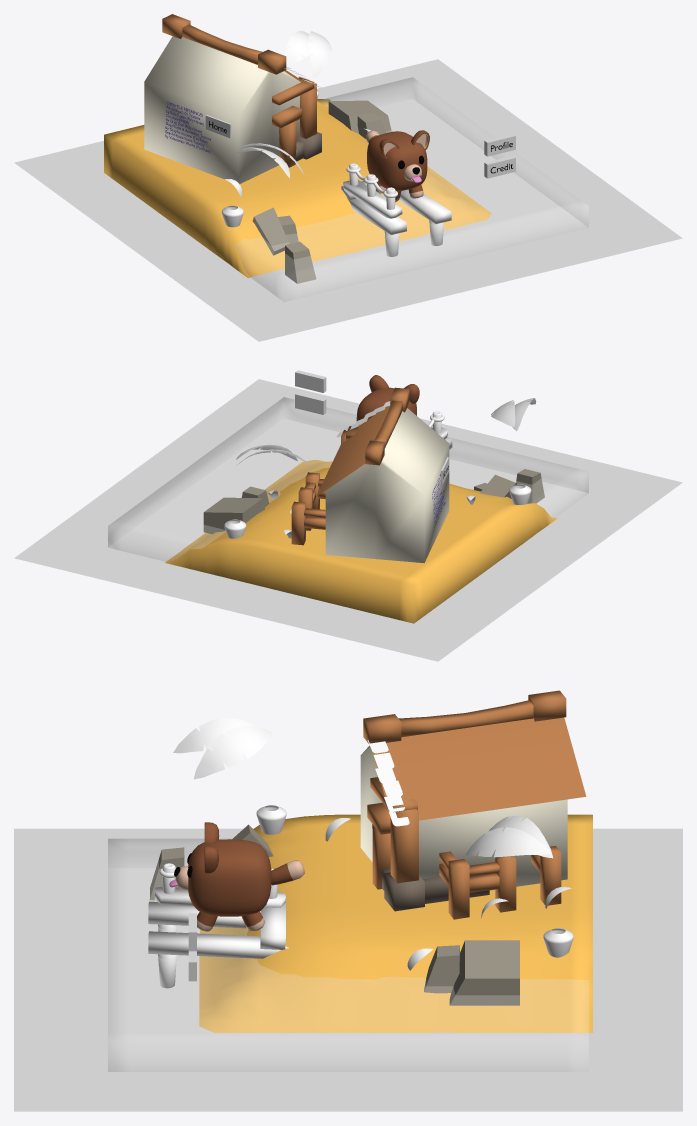
File: sea.glb
3 renders of one model, top to bottom at view 1: azimuth 30°, elevation 25°; view 2: azimuth 150°, elevation 25°; view 3: azimuth 270°, elevation 25°, orthographic. The views are drawn at different scales.
Visible parts, largest first — view 1: Plane.014, Water, sand, Cube, Cube.025, Cube.008, Cube.002, Cube.011, Cube.006, Cube.014, Cube.013, Plane.007 (+8 smaller); view 2: Plane.014, sand, Water, Cube, Cube.001, Cube.009, Cube.011, Cube.025, Cube.014, Cube.006, Cube.019, Cube.017 (+1 smaller); view 3: Plane.014, Water, sand, Cube.001, Cube, Cube.025, Cube.008, Cube.009, Cube.011, Cube.002, Cube.006, Plane.009 (+12 smaller).
Boxes of the visible parts, x1,y1,x2,y2 form: Plane.014: [14, 59, 682, 341]; Water: [235, 77, 588, 301]; sand: [104, 99, 491, 278]; Cube: [144, 36, 300, 184]; Cube.025: [367, 130, 429, 190]; Cube.008: [343, 180, 451, 234]; Cube.002: [272, 77, 316, 167]; Cube.011: [328, 100, 391, 133]; Cube.006: [182, 24, 262, 64]; Cube.014: [285, 241, 316, 283]; Cube.013: [252, 207, 289, 255]; Plane.007: [308, 31, 332, 78]; Plane.014: [14, 379, 682, 661]; sand: [165, 460, 557, 623]; Water: [108, 397, 588, 561]; Cube: [325, 408, 449, 563]; Cube.001: [316, 406, 389, 496]; Cube.009: [291, 472, 325, 545]; Cube.011: [203, 497, 264, 534]; Cube.025: [356, 375, 419, 420]; Cube.014: [516, 469, 544, 503]; Cube.006: [374, 400, 402, 448]; Cube.019: [295, 370, 326, 392]; Cube.017: [295, 392, 326, 414]; Plane.014: [14, 828, 682, 1111]; Water: [108, 839, 588, 1071]; sand: [199, 814, 592, 1032]; Cube.001: [372, 717, 586, 823]; Cube: [360, 745, 567, 890]; Cube.025: [174, 822, 271, 916]; Cube.008: [148, 886, 288, 958]; Cube.009: [439, 846, 561, 919]; Cube.011: [449, 940, 519, 1005]; Cube.002: [367, 777, 418, 889]; Cube.006: [398, 700, 533, 737]; Plane.009: [194, 726, 272, 779].
Size of the model in its own units: 17.38 by 8.9 by 17.38.
